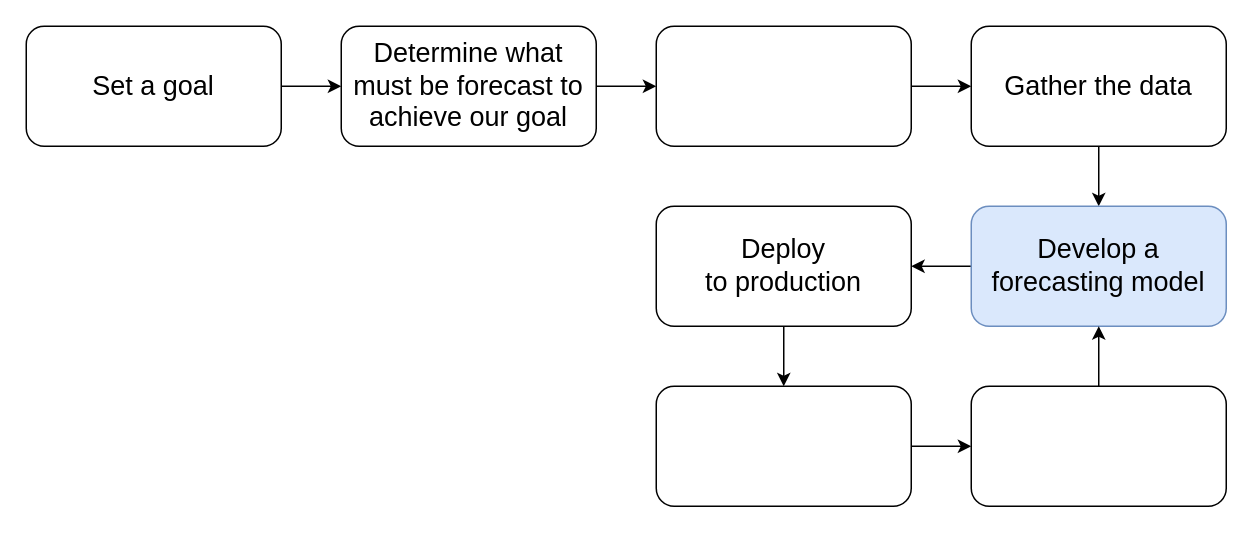
Some shapes in this 1253 by 533 pixel diagram are drawn without their labels. Here are the shapes that lost their labels. From the top down, the box of each, then its label:
(655, 25, 911, 146): Set the horizon of the forecast
(655, 385, 911, 506): Monitor
(970, 385, 1226, 506): Collect new data
